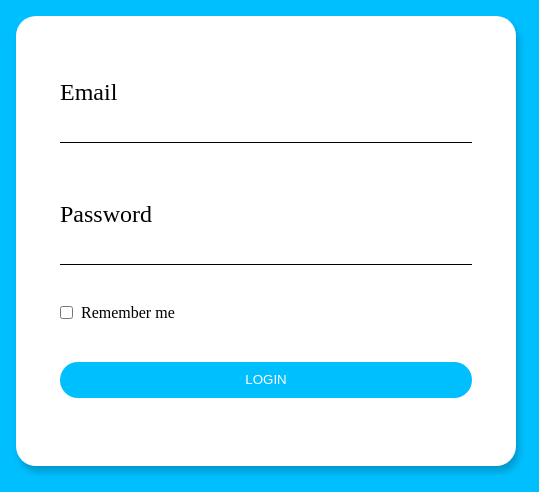
Test: renders invalid password error if password is shorter than 6 letters
In the password field labelled "Password": (266, 249) [60, 233, 472, 265], type "pass"
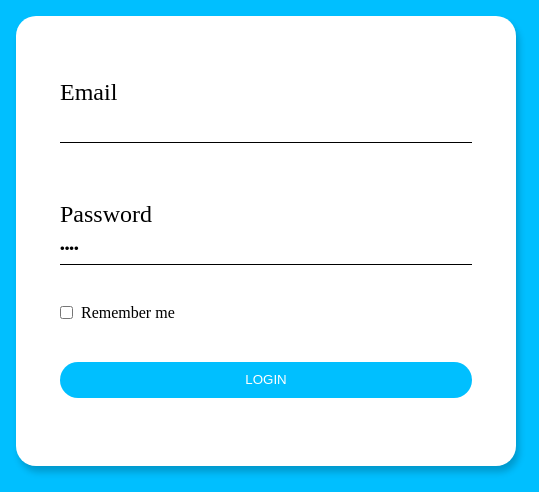
Click the button "login": (266, 380) [60, 362, 472, 398]
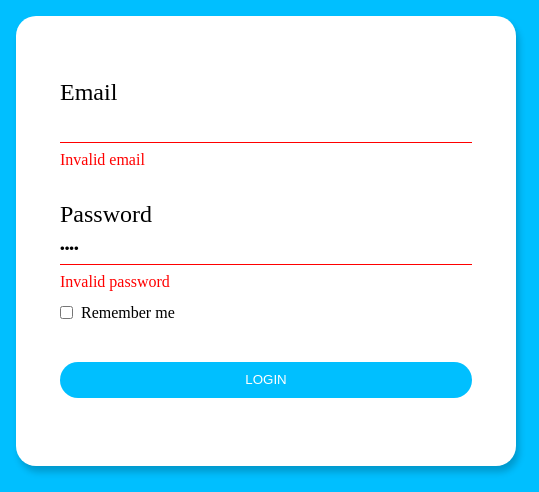
Now the text "Invalid password" is shown, box [60, 273, 170, 290]
